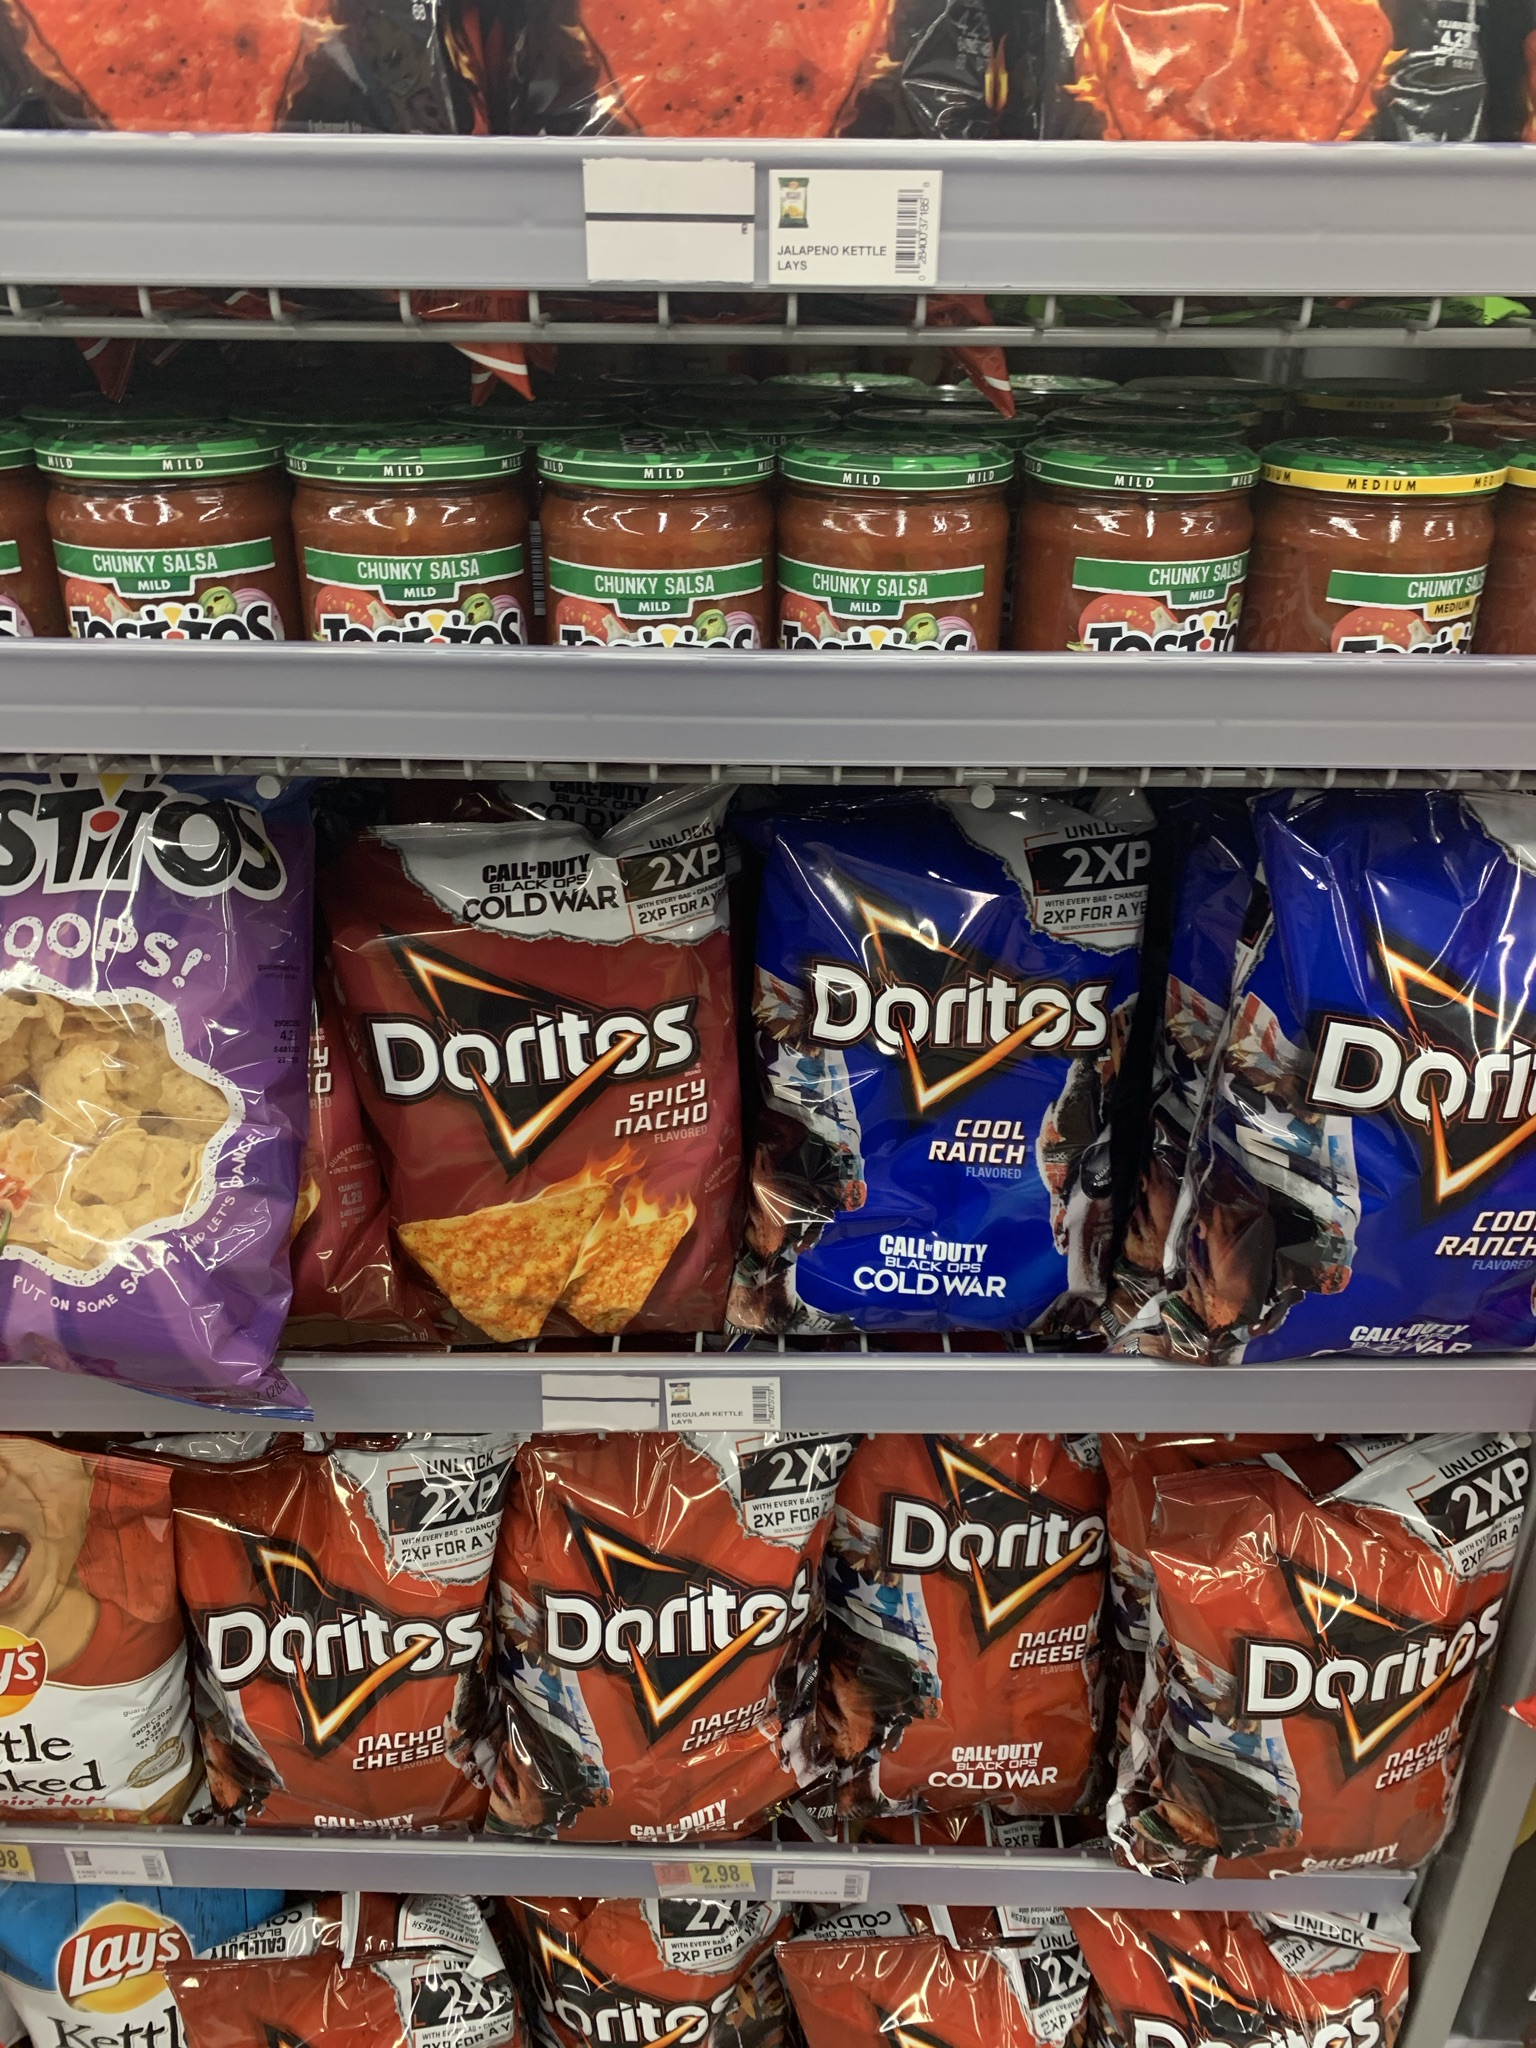Chips: (332, 780, 742, 1338), (737, 787, 1146, 1334), (1134, 1455, 1512, 1869), (499, 1424, 850, 1822), (165, 1424, 490, 1824), (820, 1435, 1117, 1851)
